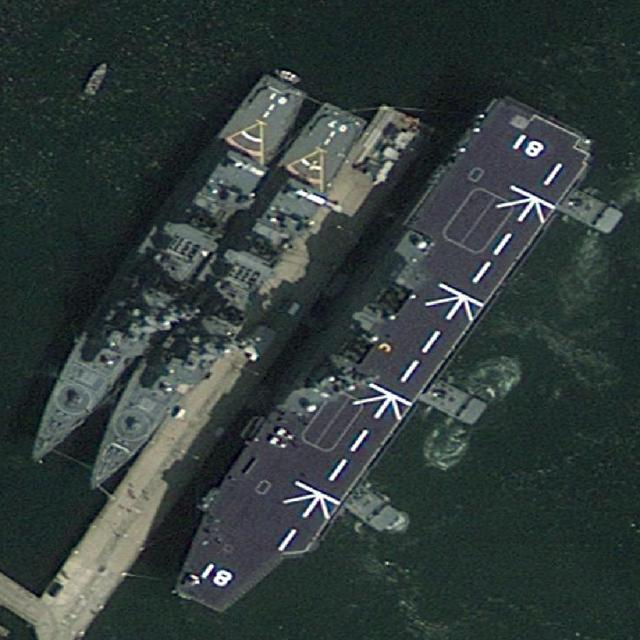Destroyer: (148, 79, 601, 638), (1, 57, 323, 481), (64, 89, 379, 510)
